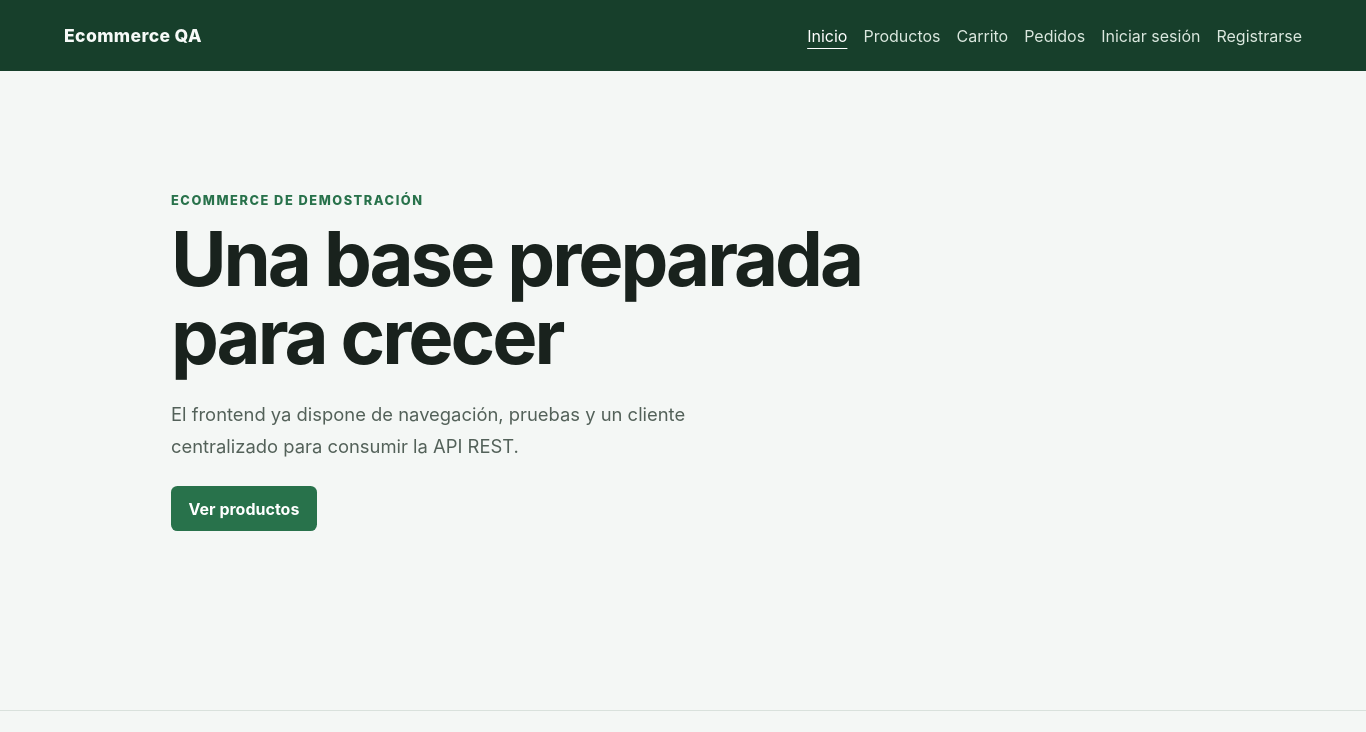
it: enrutador principal › permite navegar a una ruta provisional
The width and height of the screenshot is (1366, 732).
Step 1. Click the link "Productos" → (902, 36), box [863,20,940,51]
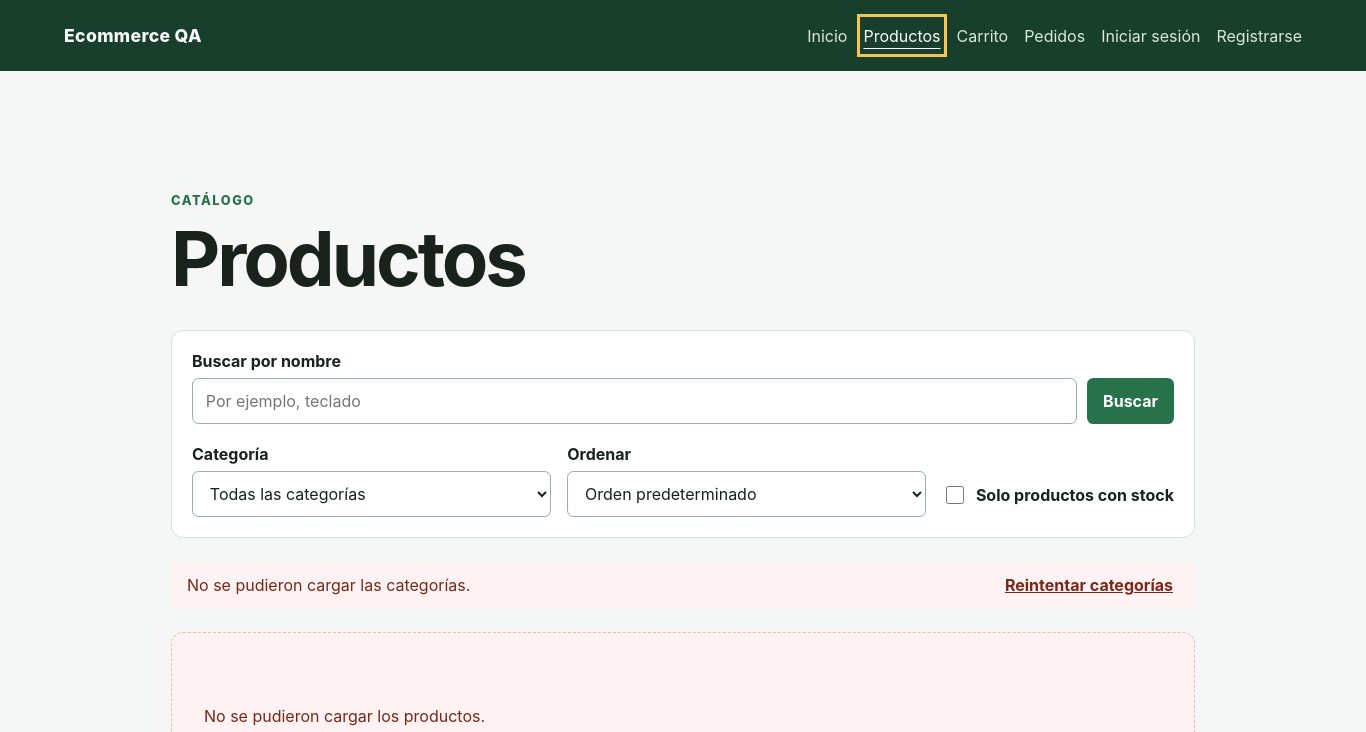
Now the heading "Productos" is shown, box [171,220,525,298]
